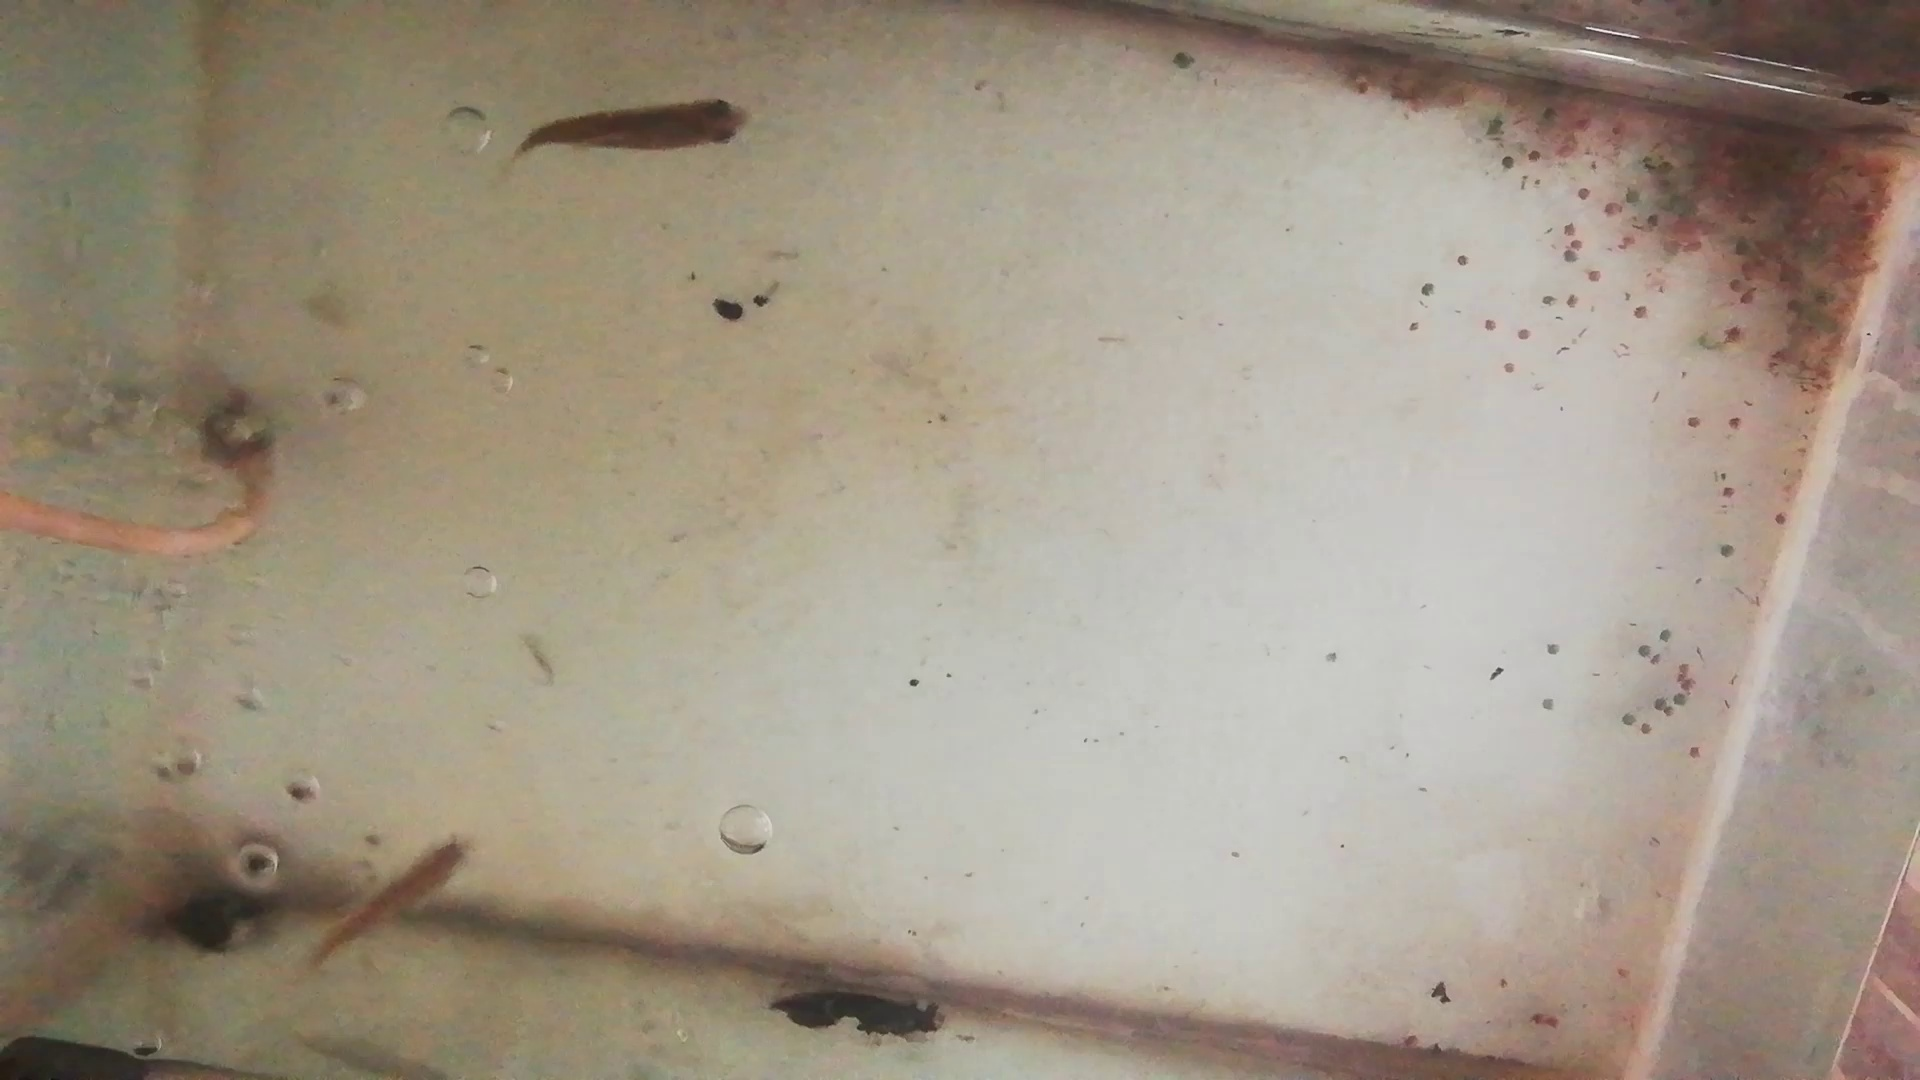fish: (305, 836, 485, 959), (516, 98, 756, 156)
